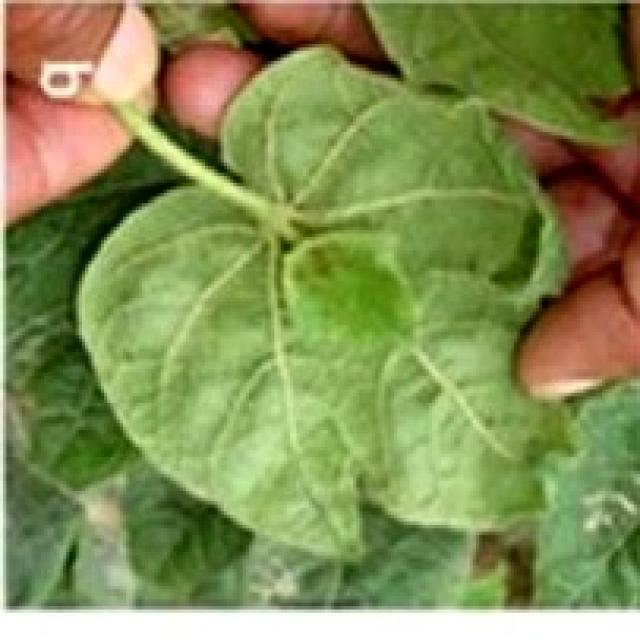Leaf Curl Virus: (120, 106, 522, 532)
